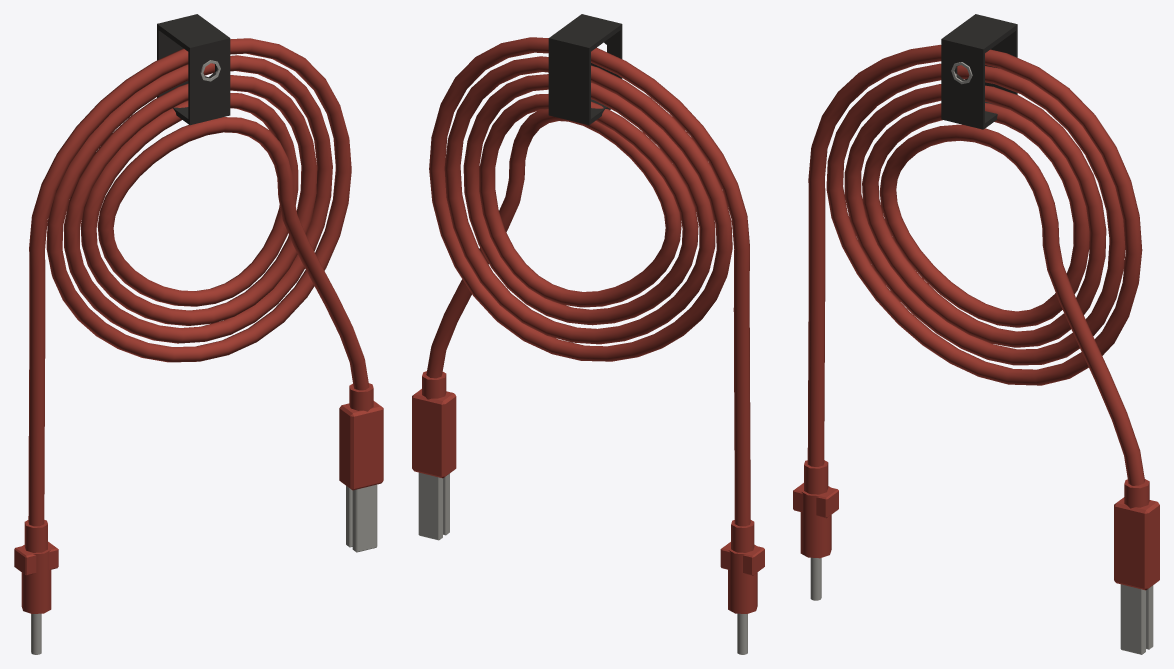
The model's file is cable-coil-small-red-bbfe82343b81.glb.
The picture shows the model from 3 angles, left to right: view 1: azimuth 30°, elevation 25°; view 2: azimuth 150°, elevation 25°; view 3: azimuth 330°, elevation 25°; orthographic projection. The views are drawn at different scales.
Parts seen in each view (by area): view 1: accent-warm, plastic-dark, brushed; view 2: accent-warm, plastic-dark, brushed; view 3: accent-warm, plastic-dark, brushed.
Boxes of the visible parts, x1,y1,x2,y2 form: accent-warm: (14, 38, 383, 613); plastic-dark: (157, 14, 230, 125); brushed: (31, 60, 377, 654); accent-warm: (412, 37, 764, 613); plastic-dark: (548, 14, 622, 125); brushed: (418, 472, 747, 654); accent-warm: (793, 44, 1159, 590); plastic-dark: (941, 14, 1017, 129); brushed: (810, 62, 1153, 654).
Bounding box in the file's own units: 0.147 × 0.234 × 0.0246.
